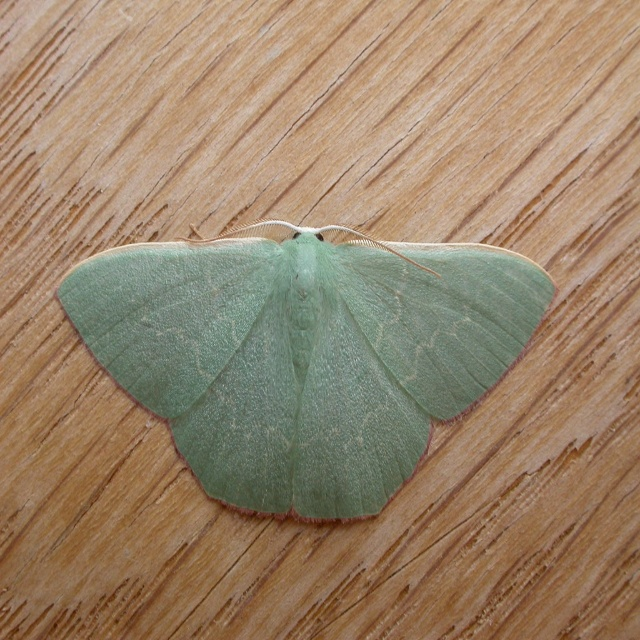Butterfly: (89, 194, 535, 529)
